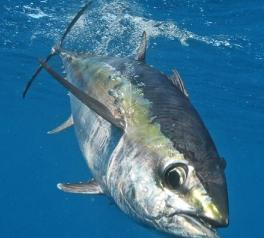Scombridae -Tunas-: (13, 0, 236, 238)
